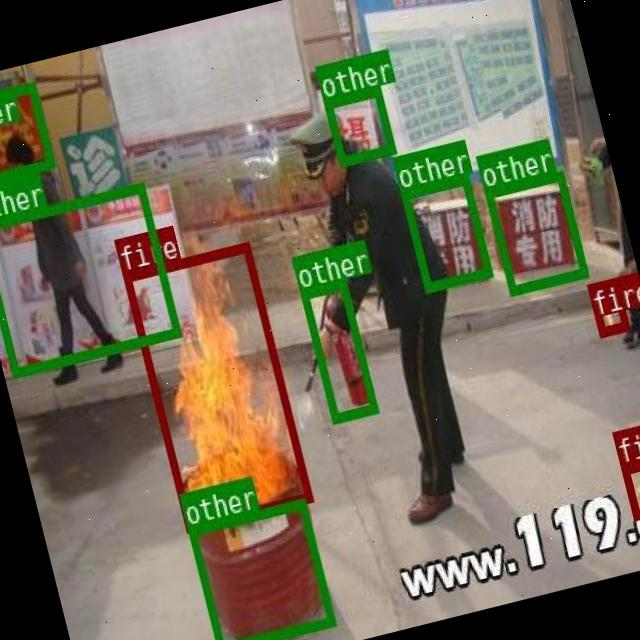fire: (121, 240, 312, 531), (586, 276, 627, 336), (619, 454, 640, 518)
